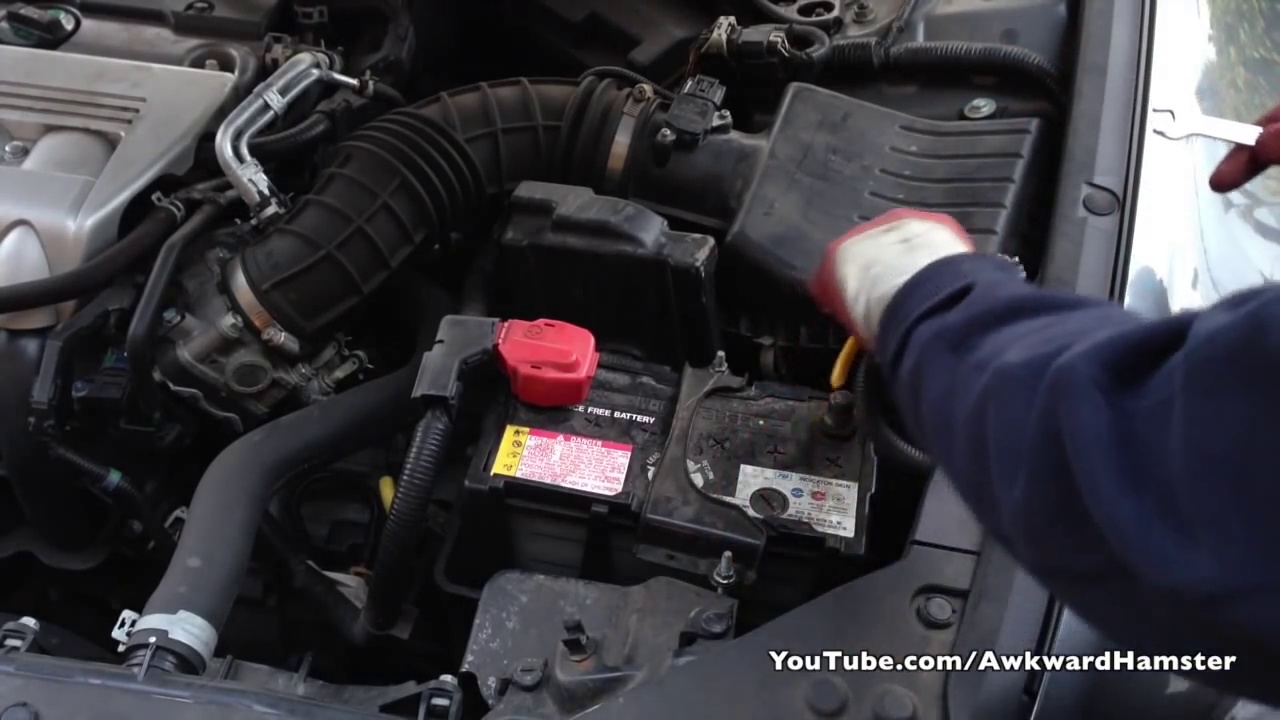battery: (458, 329, 873, 549)
pos_connected: (446, 287, 601, 420)
